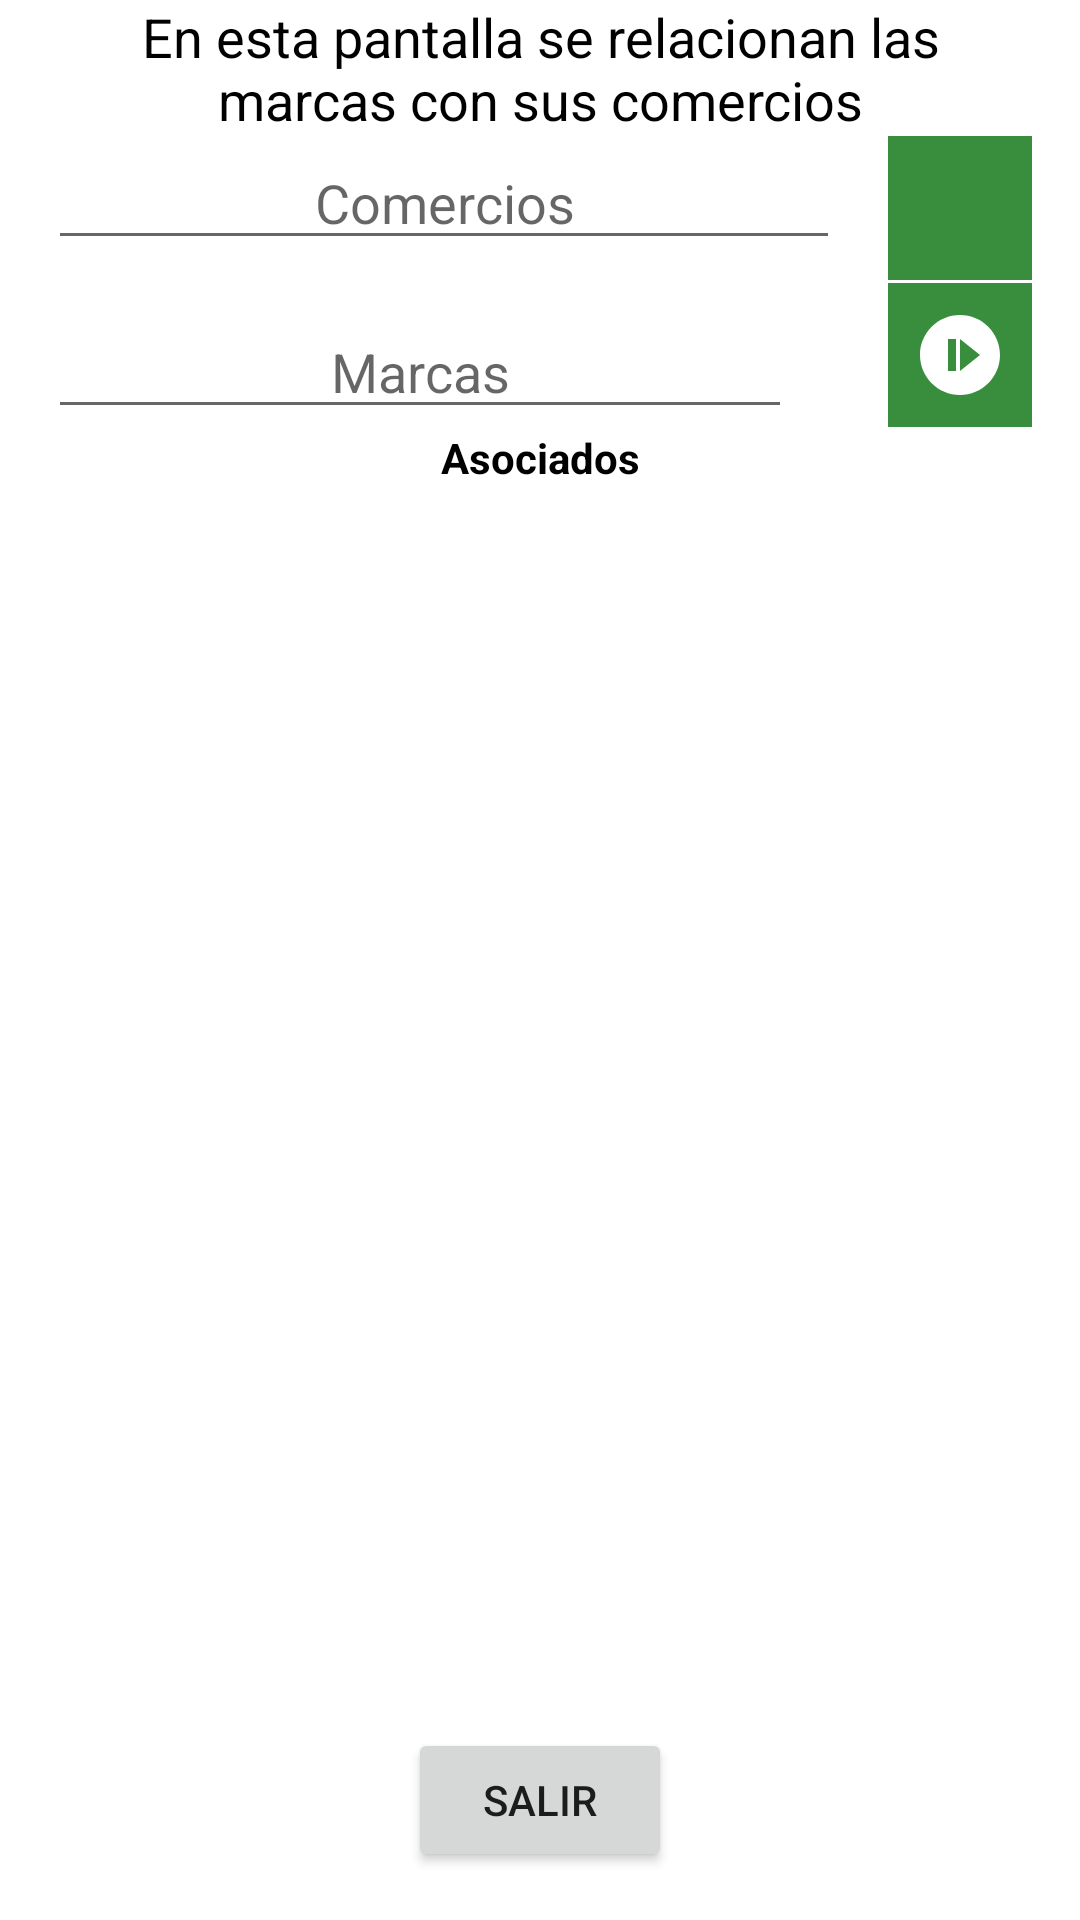

Screen size 1080px×1920px. Icon name, then its box in pixels as (x1, y1, x2, y2):
not started: (888, 283, 1032, 427)
